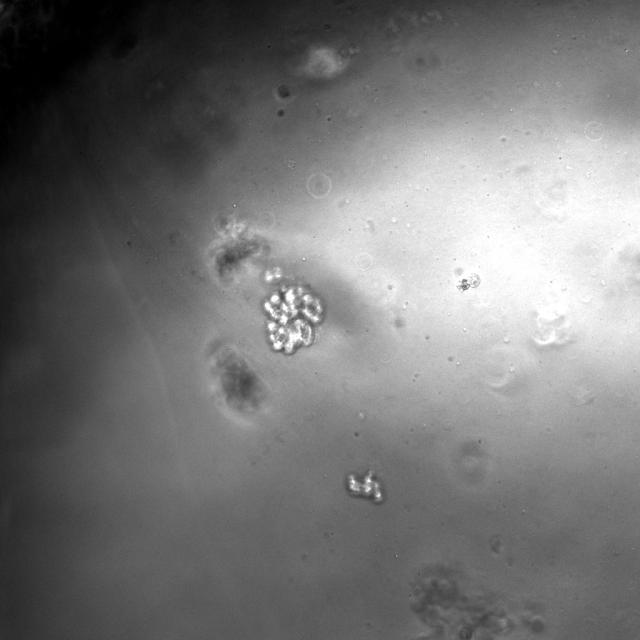organoid: (262, 267, 324, 354), (346, 470, 384, 503)
